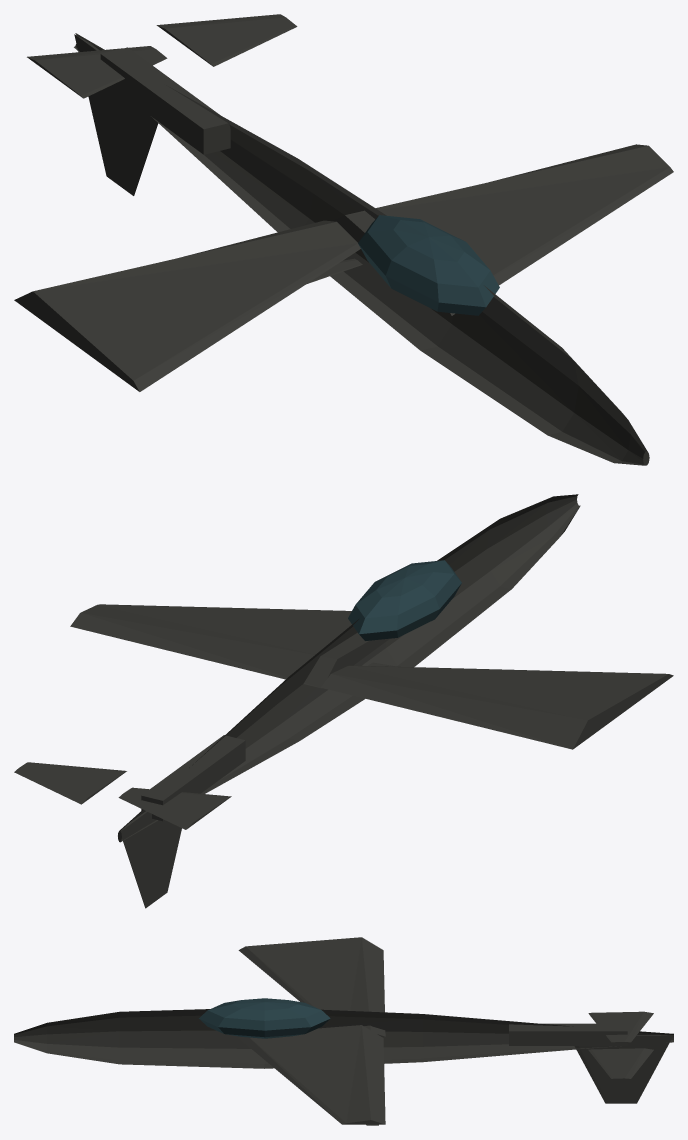
The model's file is mig29_Destroyed.glb.
The picture shows the model from 3 angles, top to bottom: view 1: azimuth 30°, elevation 25°; view 2: azimuth 150°, elevation 25°; view 3: azimuth 270°, elevation 25°; orthographic projection. The views are drawn at different scales.
Parts seen in each view (by area): view 1: Fuselage, Wing_L, Wing_R, Cockpit, TailBoom, Rudder, Elevator_R, Elevator_L; view 2: Fuselage, Wing_L, Wing_R, Cockpit, Rudder, TailBoom, Elevator_R, Elevator_L; view 3: Fuselage, Wing_R, Wing_L, Cockpit, Rudder, TailBoom, Elevator_R, Elevator_L.
Boxes of the visible parts, x1,y1,x2,y2 form: Fuselage: [74, 33, 649, 465]; Wing_L: [14, 220, 360, 391]; Wing_R: [332, 144, 673, 315]; Cockpit: [358, 215, 499, 315]; TailBoom: [100, 47, 230, 154]; Rudder: [74, 34, 158, 195]; Elevator_R: [156, 14, 297, 66]; Elevator_L: [27, 46, 167, 98]; Fuselage: [118, 494, 580, 842]; Wing_L: [321, 665, 673, 749]; Wing_R: [70, 604, 389, 688]; Cockpit: [348, 560, 461, 640]; Rudder: [120, 811, 181, 908]; TailBoom: [141, 735, 245, 821]; Elevator_R: [14, 762, 126, 804]; Elevator_L: [118, 787, 231, 829]; Fuselage: [14, 1009, 673, 1068]; Wing_R: [238, 1025, 385, 1124]; Wing_L: [238, 937, 385, 1036]; Cockpit: [199, 998, 330, 1038]; Rudder: [574, 1035, 673, 1103]; TailBoom: [509, 1023, 627, 1045]; Elevator_R: [588, 1048, 653, 1078]; Elevator_L: [588, 1011, 653, 1042].
Bounding box in the file's own units: 10.91 × 2.93 × 17.32.
